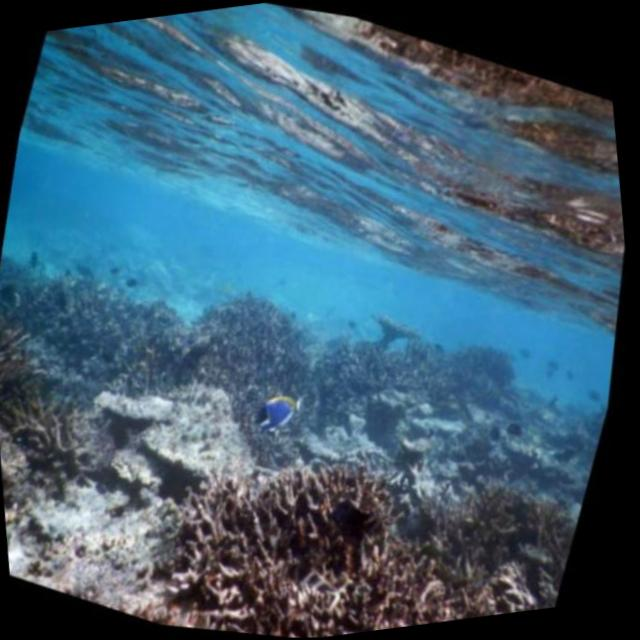Dead Coral: (0, 205, 634, 640)
